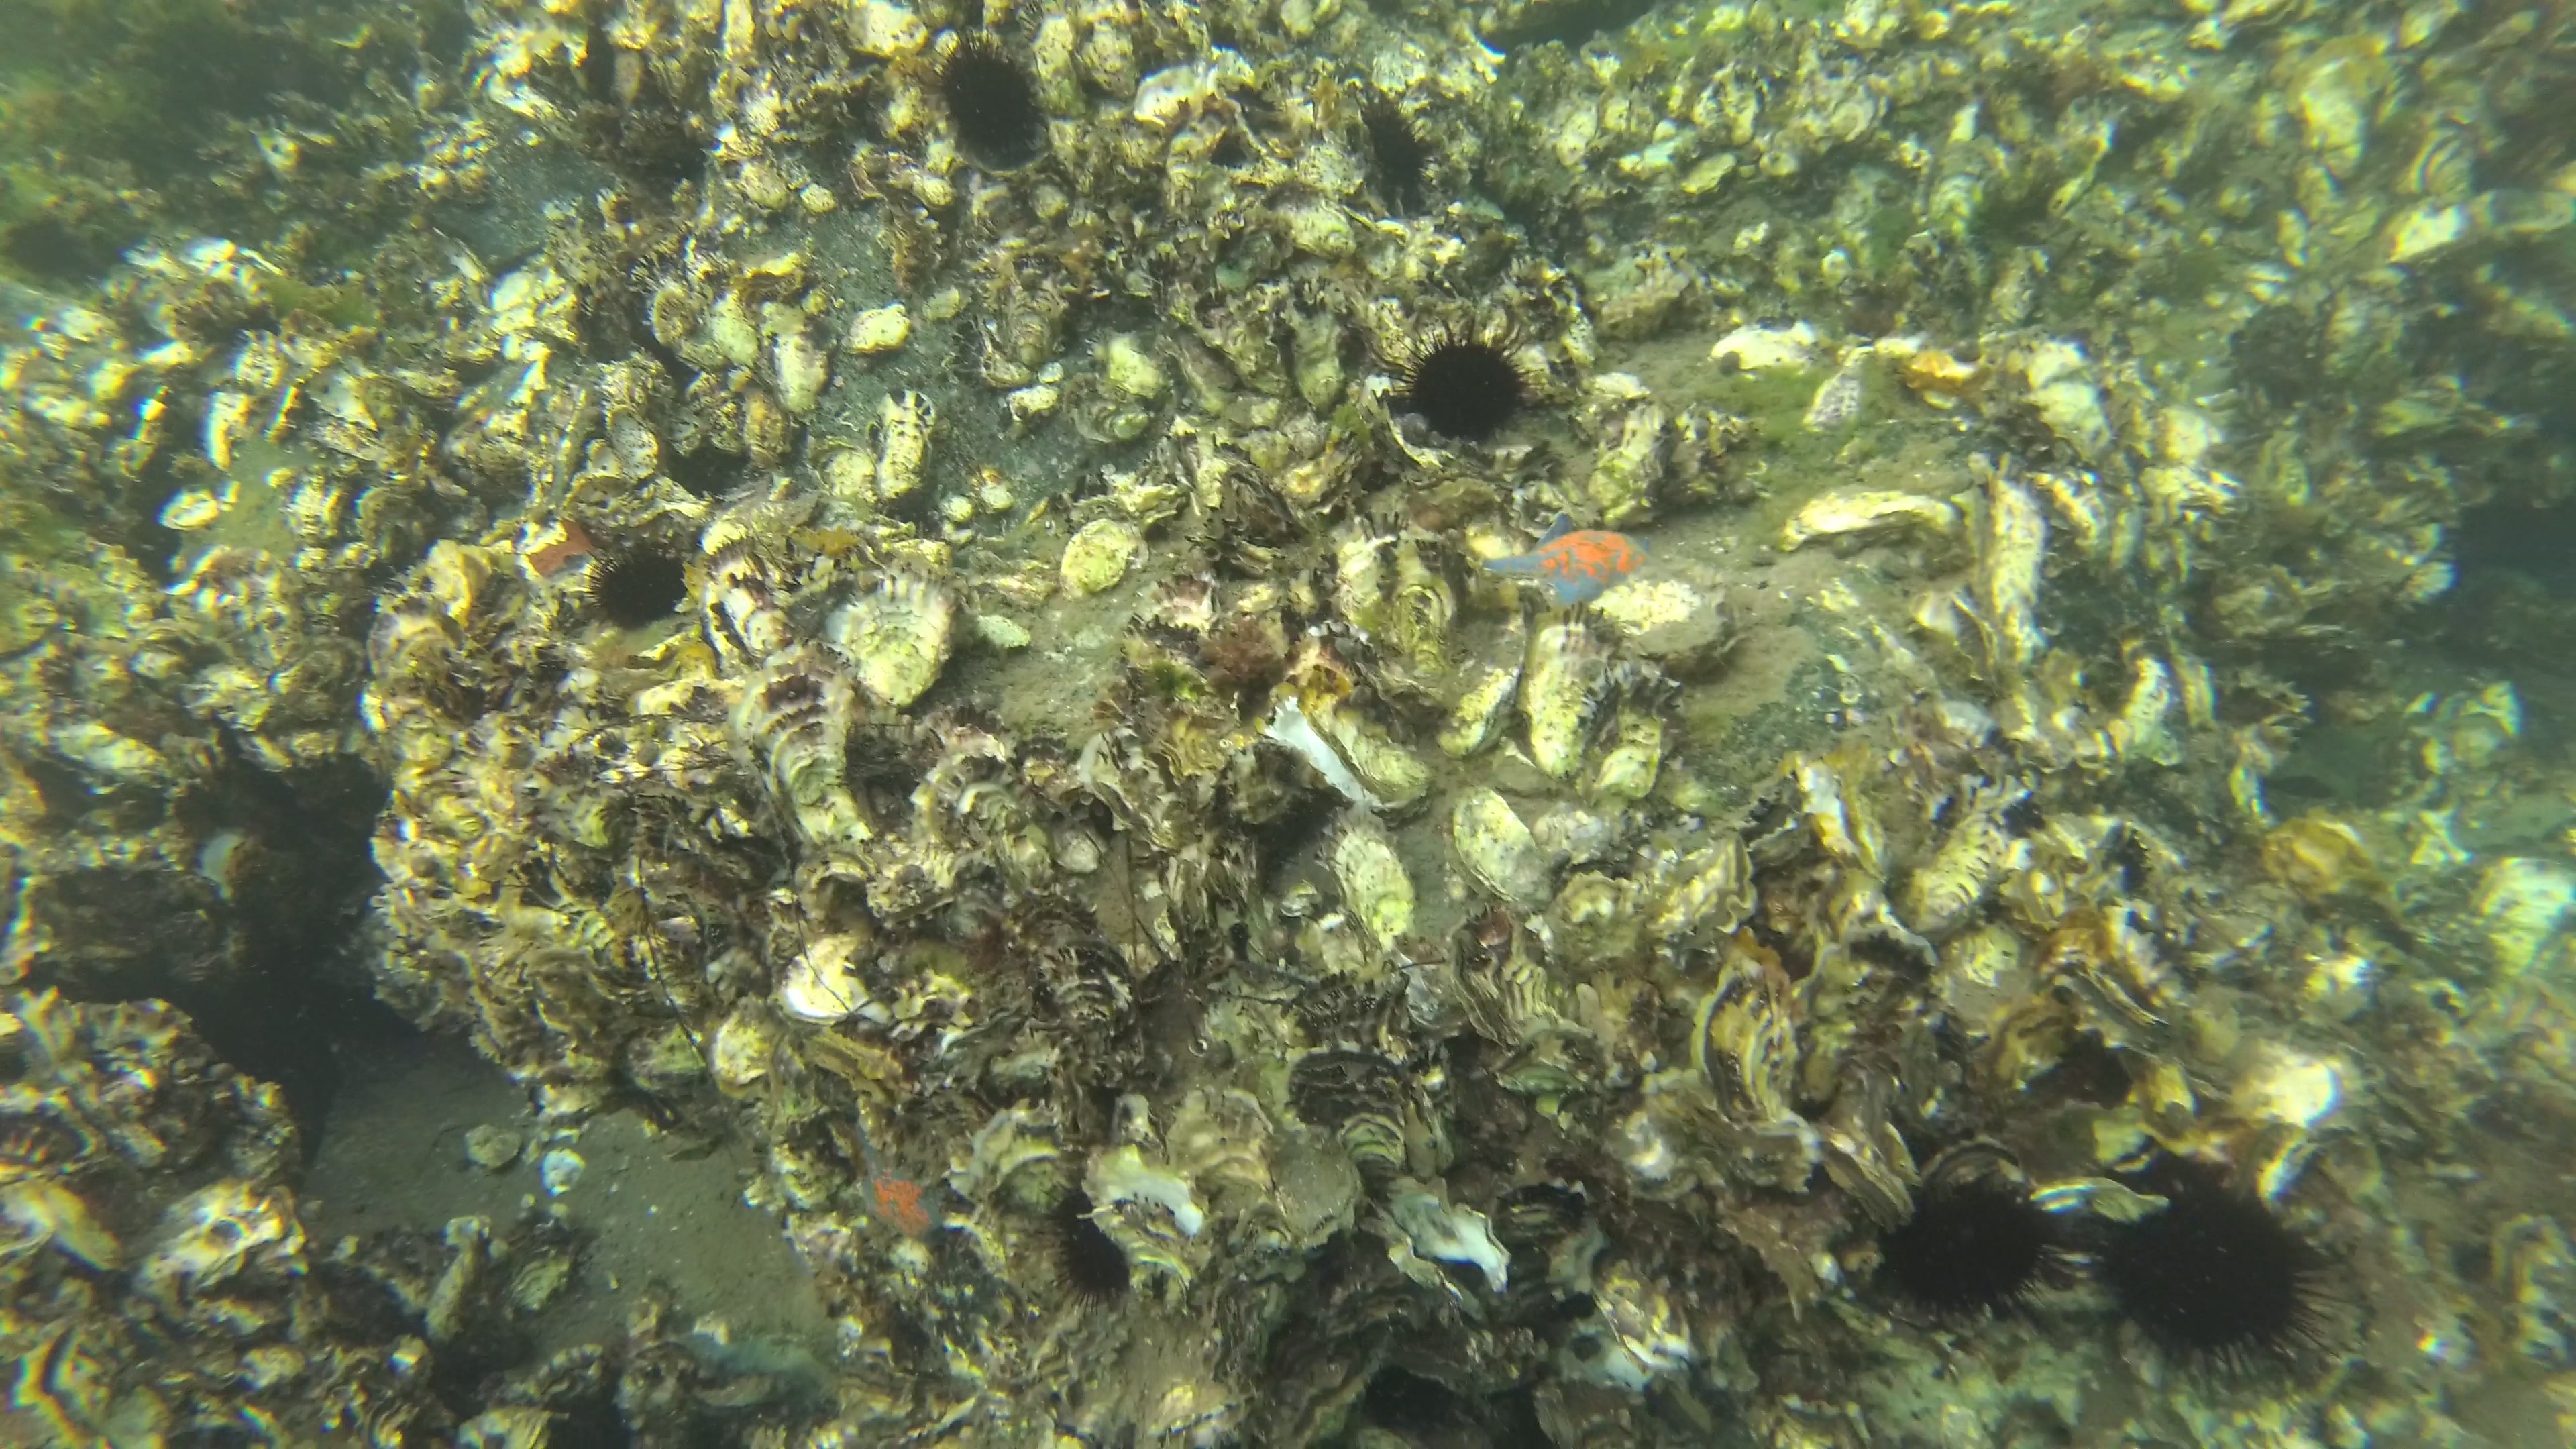echinus: (2091, 1171, 2351, 1403), (1861, 1155, 2066, 1343), (1389, 311, 1548, 451), (916, 19, 1051, 163), (1026, 1169, 1132, 1322), (566, 525, 692, 640), (1346, 80, 1445, 223)
starfish: (1488, 504, 1660, 617), (839, 1118, 952, 1244)
